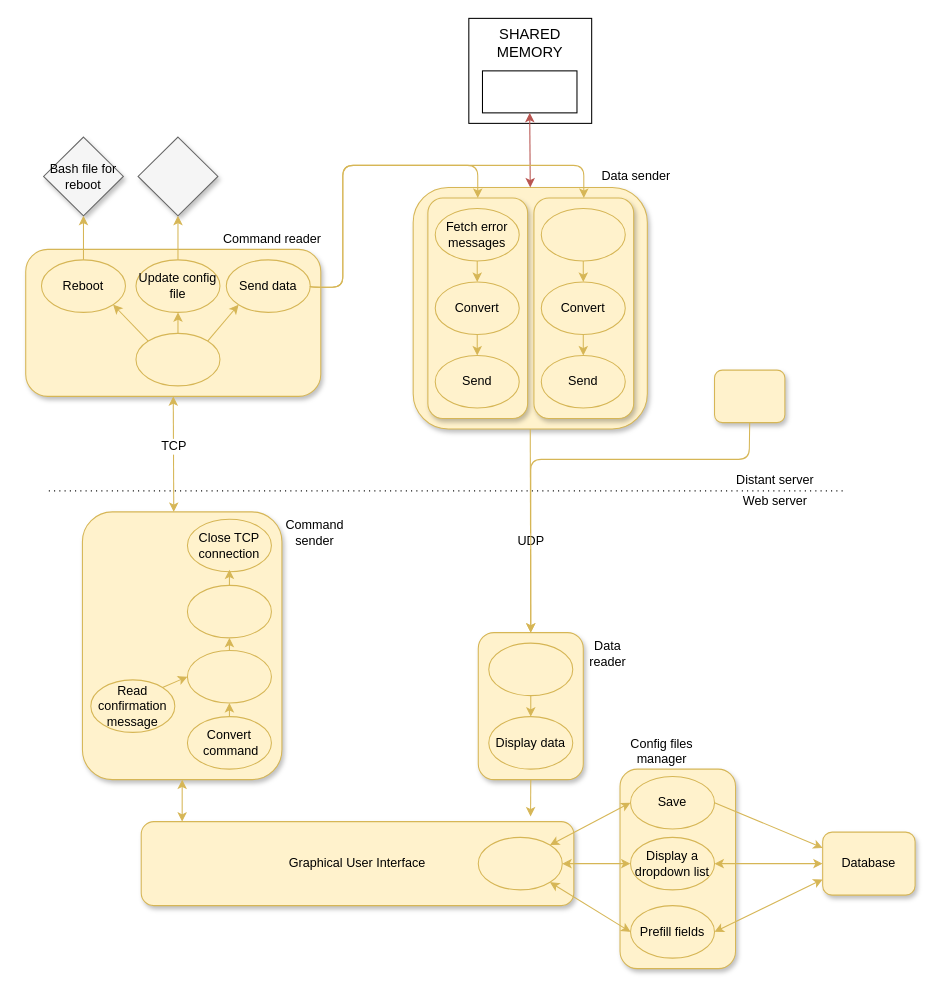
Image size: 940x994. Some labels were removed from this diagram. Each missing label, with the centre of its shape:
"Config file page" belongs at point (519, 863).
"Convert data" belongs at point (530, 669).
"Fetch PROC or MON once" belongs at point (582, 234).
"Heartbeat sender" belongs at point (750, 397).
"Open TCP connection" belongs at point (228, 676).
"Read command" belongs at point (177, 359).
"Relevant data" belongs at point (529, 91).
"RTIS config file" belongs at point (178, 177).
"Send command" belongs at point (228, 611).
